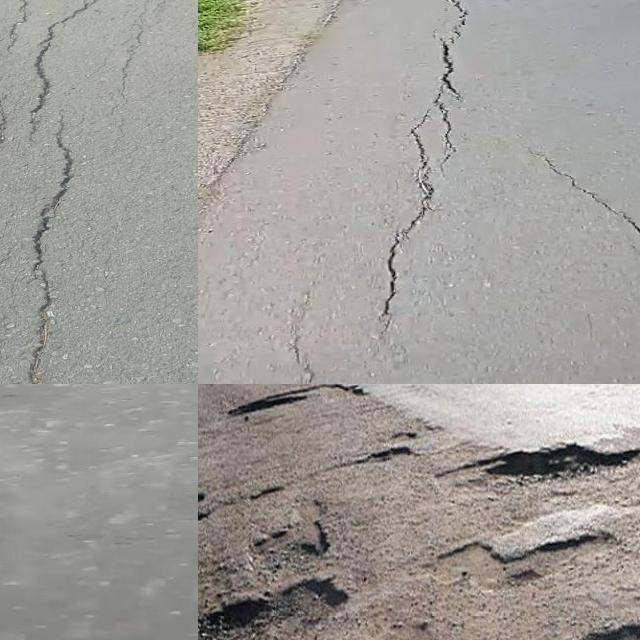Lubang: (438, 449, 640, 503), (198, 581, 357, 640)
Memanjang: (363, 0, 477, 339), (10, 116, 87, 384), (516, 138, 640, 279), (282, 287, 334, 384)
